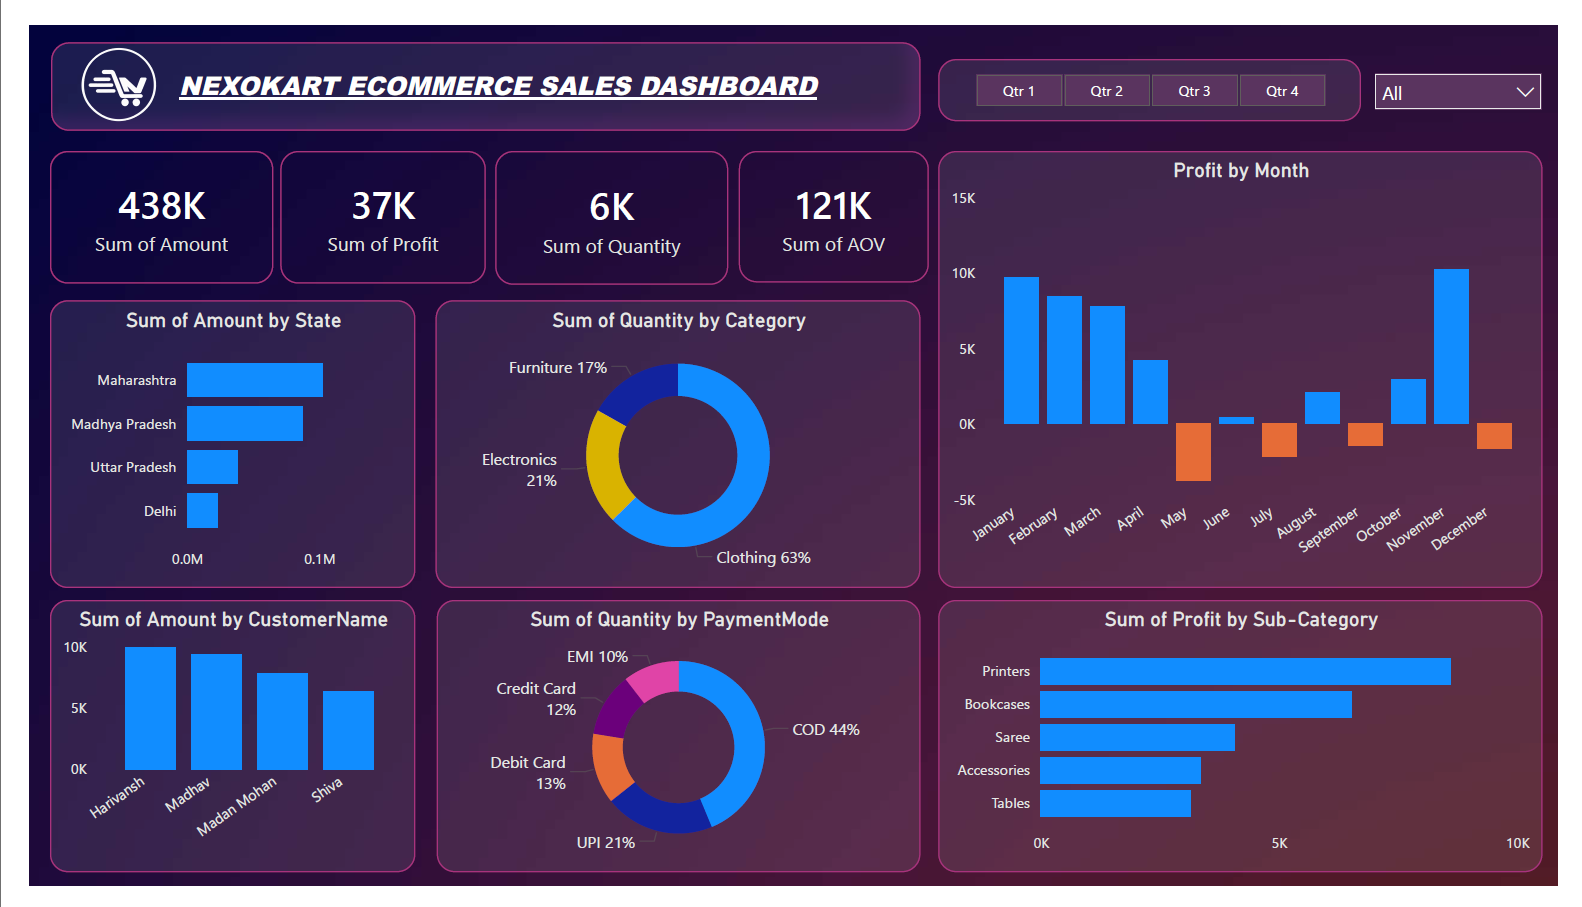

Layout of this report page (visuals, bound fields, positions):
{"tool":"powerbi","page":{"name":"Page 1","canvas":[1280,720],"ordinal":0},"visuals":[{"type":"columnChart","title":"Profit by Month","fields":{"Y":["Sum(Details.Profit)"],"Category":["Orders.Order Date.Variation.Date Hierarchy.Month"]},"box":[761.3,105,505.5,365.6],"z":0},{"type":"barChart","fields":{"Category":["Details.Sub-Category"],"Y":["Sum(Details.Profit)"]},"box":[761.3,481.4,505.5,228],"z":1000},{"type":"donutChart","fields":{"Category":["Details.Category"],"Y":["Sum(Details.Quantity)"]},"box":[340.2,230.4,405.4,240.1],"z":2000},{"type":"donutChart","fields":{"Category":["Details.PaymentMode"],"Y":["Sum(Details.Quantity)"]},"box":[341.4,481.4,404.2,228],"z":3000},{"type":"cardVisual","fields":{"Data":["Sum(Details.Amount)"]},"box":[16.9,105,187,111],"z":4000},{"type":"cardVisual","fields":{"Data":["Sum(Details.Profit)"]},"box":[209.9,105,172.5,111],"z":5000},{"type":"cardVisual","fields":{"Data":["Sum(Details.Quantity)"]},"box":[389.7,105,195.4,112.2],"z":6000},{"type":"cardVisual","fields":{"Data":["Sum(Details.AOV)"]},"box":[593.6,105,159.3,109.8],"z":7000},{"type":"barChart","fields":{"Category":["Orders.State"],"Y":["Sum(Details.Amount)"]},"box":[16.9,230.4,306.4,240.1],"z":8000},{"type":"columnChart","fields":{"Category":["Orders.CustomerName"],"Y":["Sum(Details.Amount)"]},"box":[16.9,481.4,306.4,228],"z":9000},{"type":"textbox","box":[18.1,14.5,727.5,73.6],"z":10000},{"type":"image","box":[38.6,13.3,72.4,74.8],"z":11000},{"type":"slicer","fields":{"Values":["Orders.Order Date.Variation.Date Hierarchy.Quarter"]},"box":[761.3,27.7,353.5,51.9],"z":12000},{"type":"slicer","fields":{"Values":["Orders.State"]},"box":[1112,25,168.9,55.5],"z":13000}]}

Visuals, with their boxes in screenshot pixels (x1, y1, x2, y2), scaled from the page's 1280x720 canvas onto the 1582x907 screenshot:
"Profit by Month" columnChart: 941,132,1566,593
barChart - Details.Sub-Category x Sum(Details.Profit): 941,606,1566,894
donutChart - Details.Category x Sum(Details.Quantity): 420,290,922,593
donutChart - Details.PaymentMode x Sum(Details.Quantity): 422,606,922,894
cardVisual - Sum(Details.Amount): 21,132,252,272
cardVisual - Sum(Details.Profit): 259,132,473,272
cardVisual - Sum(Details.Quantity): 482,132,723,274
cardVisual - Sum(Details.AOV): 734,132,931,271
barChart - Orders.State x Sum(Details.Amount): 21,290,400,593
columnChart - Orders.CustomerName x Sum(Details.Amount): 21,606,400,894
textbox: 22,18,922,111
image: 48,17,137,111
slicer - Orders.Order Date.Variation.Date Hierarchy.Quarter: 941,35,1378,100
slicer - Orders.State: 1374,31,1581,101
